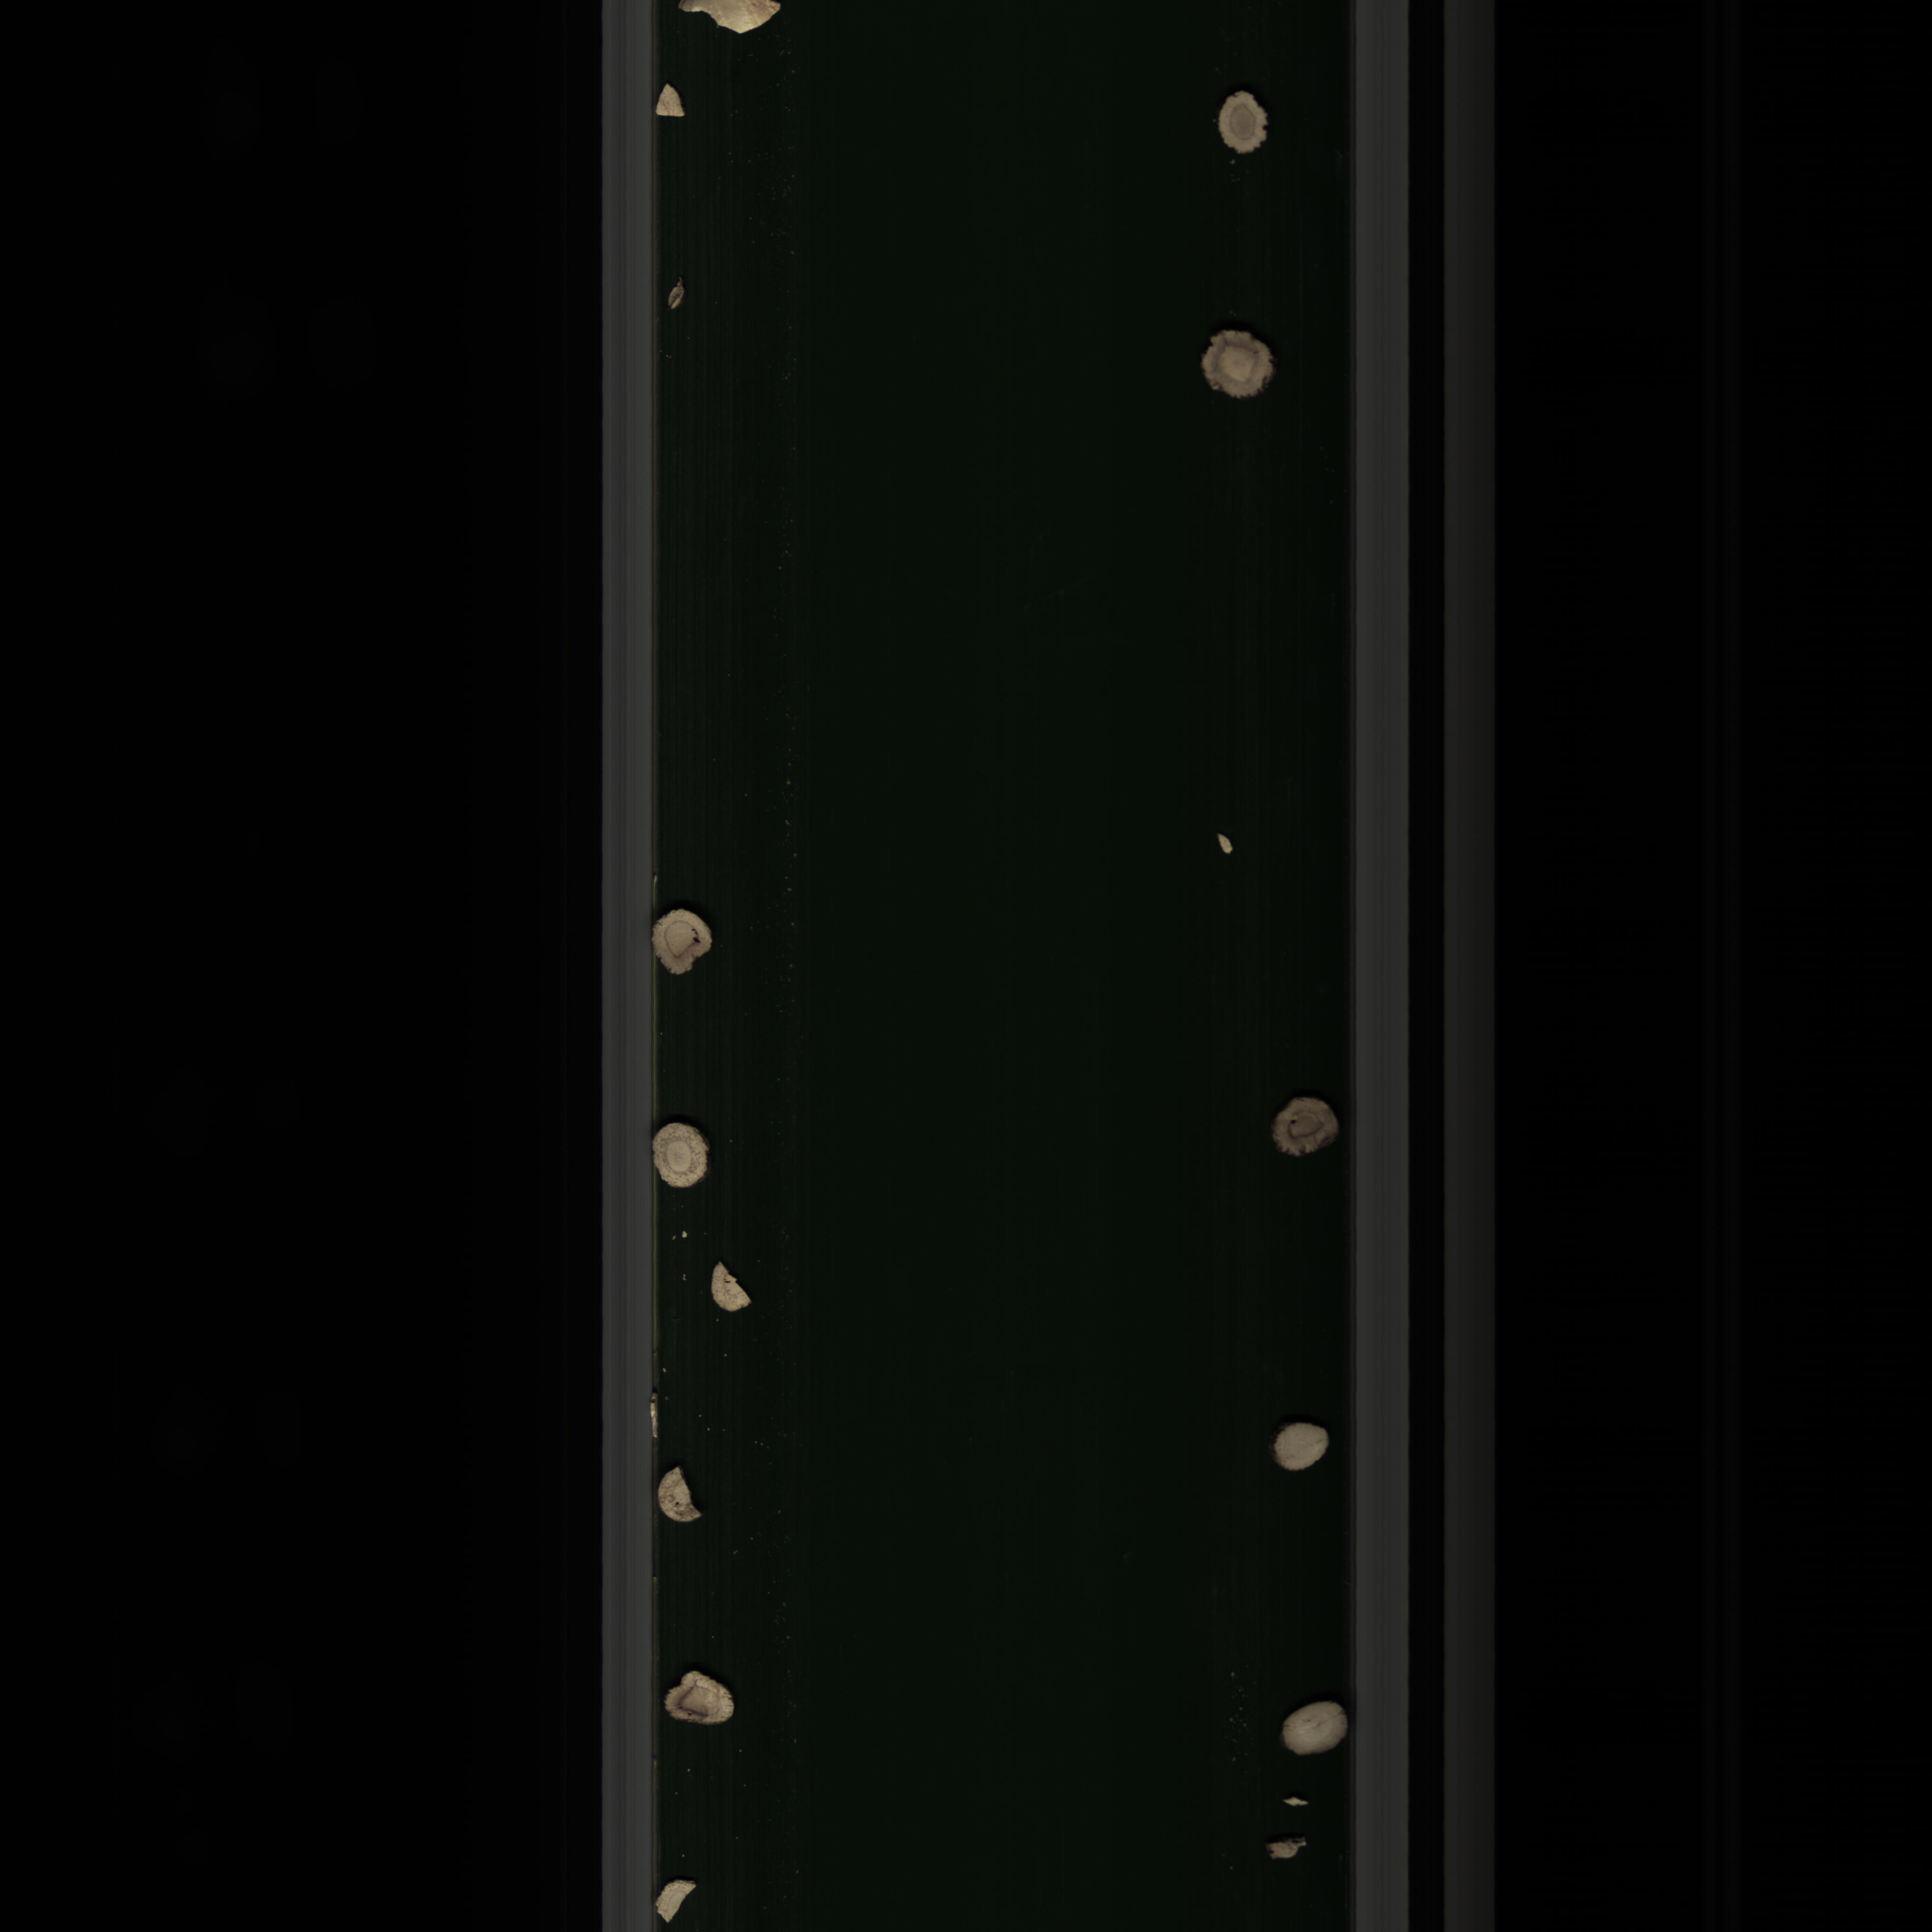debris: (655, 1463, 704, 1536), (701, 1253, 755, 1315), (655, 1877, 701, 1928), (655, 80, 695, 127)
hole: (655, 901, 711, 985)
moldy: (1191, 327, 1288, 407), (1258, 1095, 1346, 1168), (658, 1663, 752, 1730)
